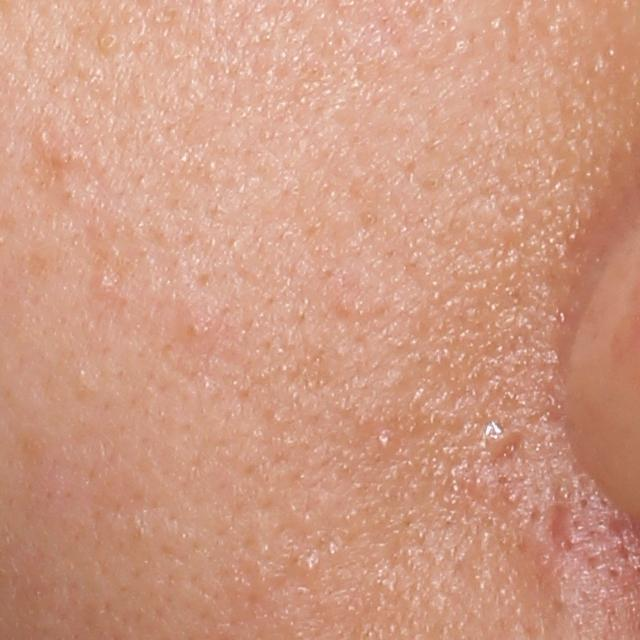atrophic_scar: (542, 494, 569, 555), (492, 432, 527, 476)
comedo: (294, 554, 325, 581), (55, 146, 86, 168), (92, 270, 113, 299), (96, 31, 123, 52), (34, 130, 53, 151)
